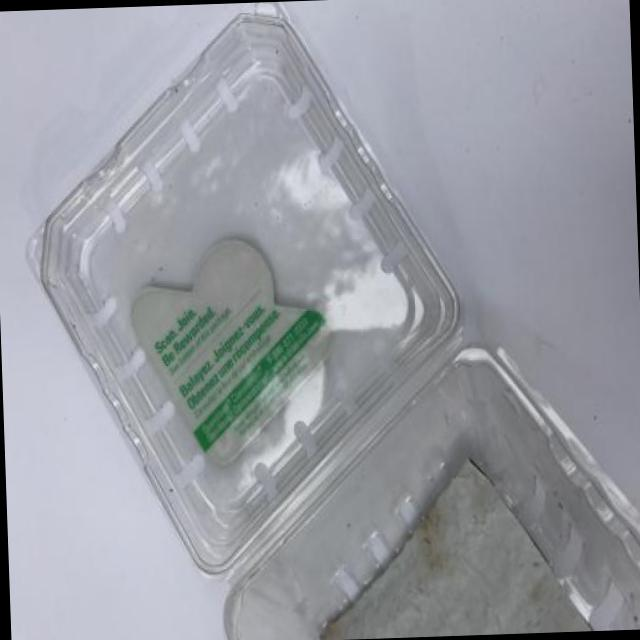Trash: (22, 18, 640, 640)
